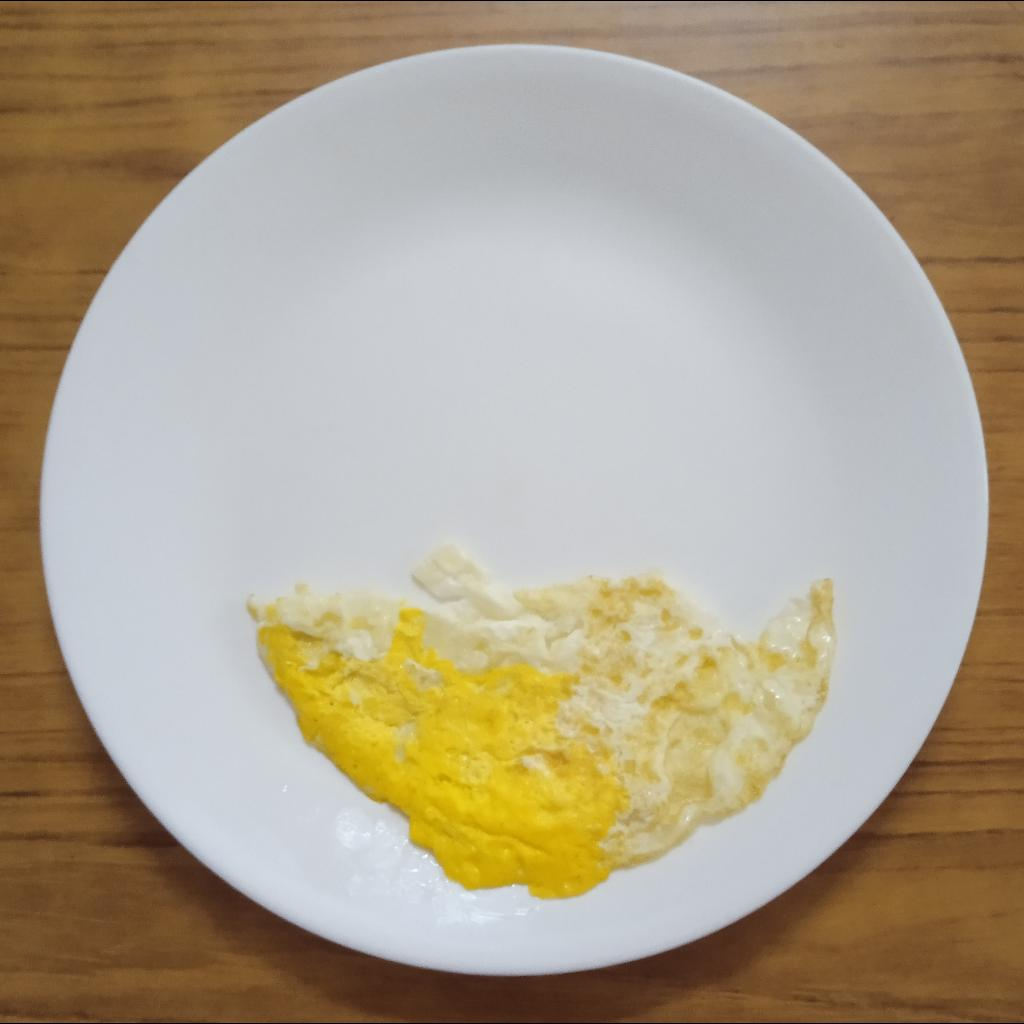egg-poached: (245, 542, 835, 902)
